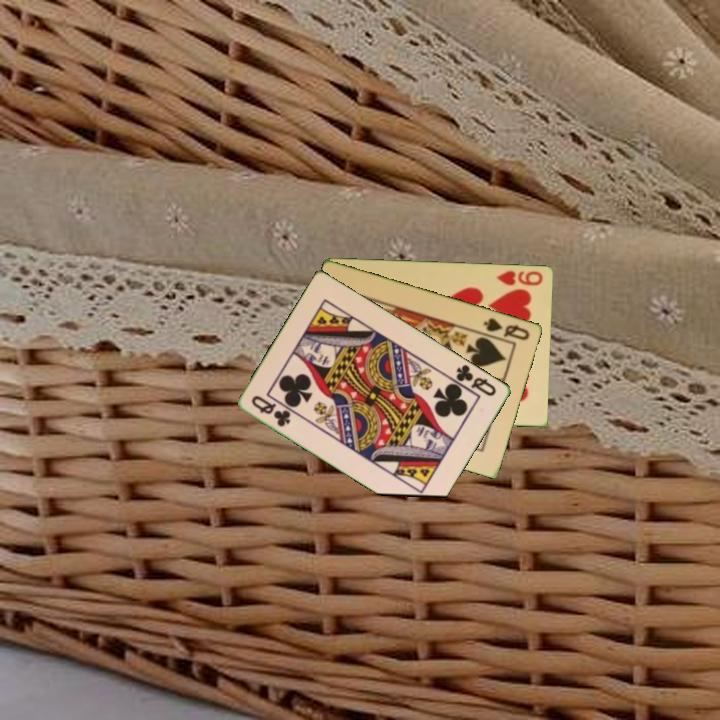9h: (493, 267, 546, 288)
Qc: (452, 361, 500, 399), (248, 392, 294, 430)
Qs: (480, 314, 533, 343)
